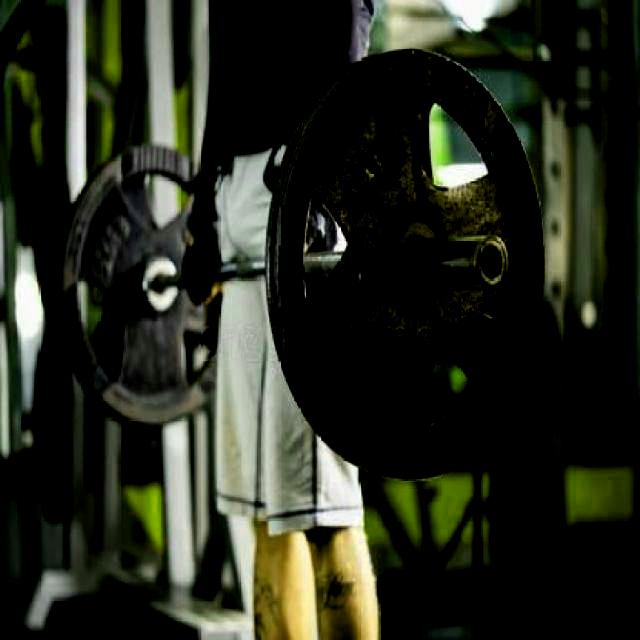barbell: (271, 45, 550, 479)
